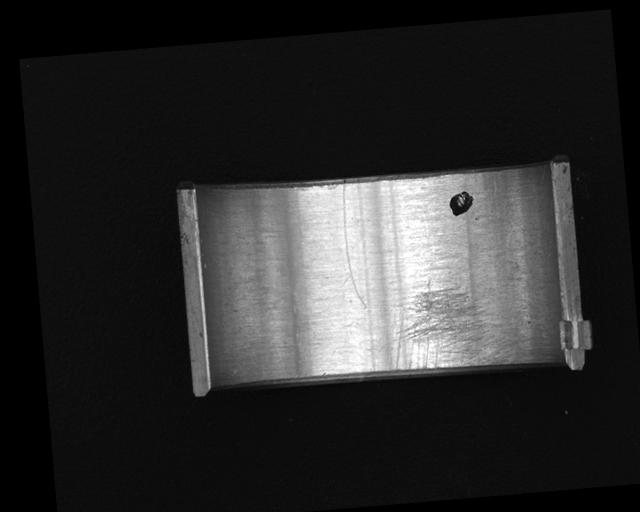blot: (446, 189, 476, 218)
nick: (339, 178, 368, 312)
scratch: (387, 271, 515, 373)
